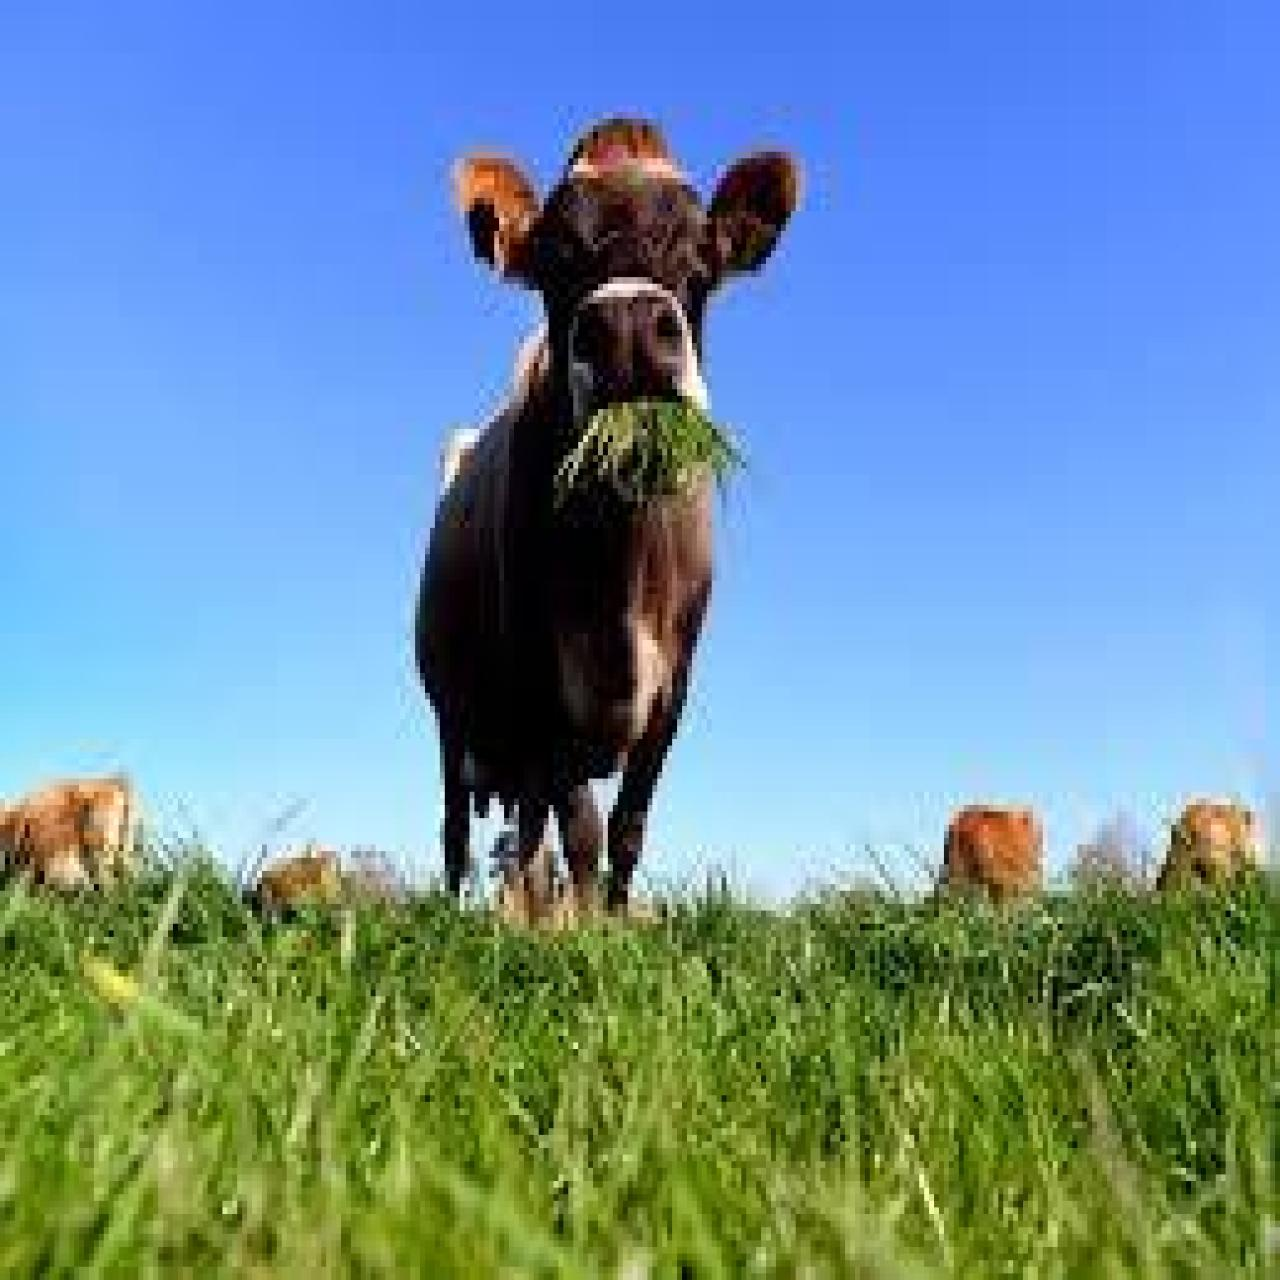cow: (413, 149, 803, 940), (2, 776, 136, 887)
